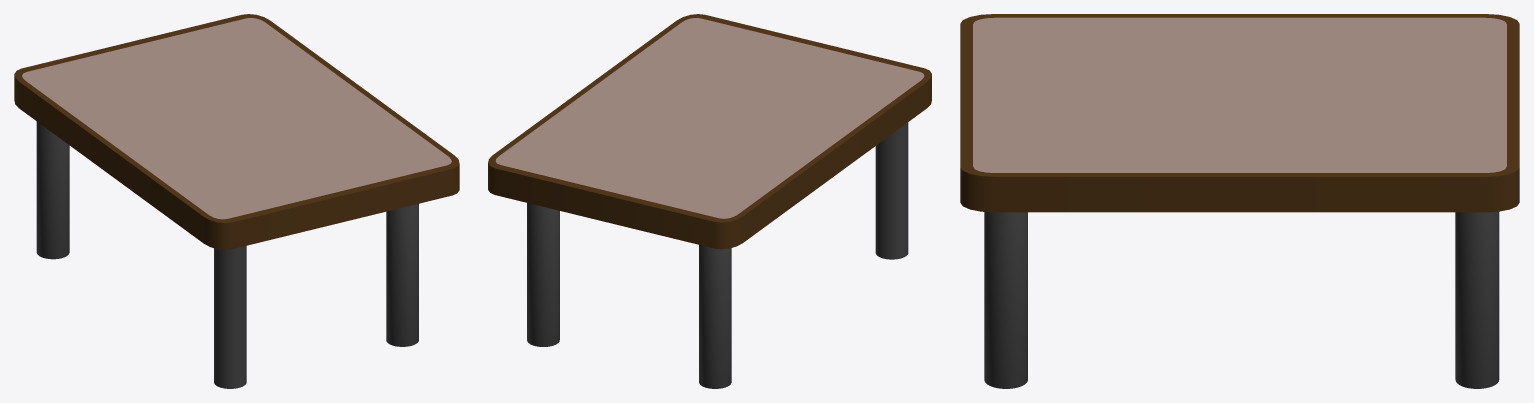
The model's file is Desk.fbx.
3 renders of one model, left to right at view 1: azimuth 30°, elevation 25°; view 2: azimuth 150°, elevation 25°; view 3: azimuth 270°, elevation 25°, orthographic. The views are drawn at different scales.
Visible parts, largest first — view 1: Cube, Cylinder.003, Cylinder.001, Cylinder.004; view 2: Cube, Cylinder.004, Cylinder.002, Cylinder.003; view 3: Cube, Cylinder.002, Cylinder.001.
Part boxes in pixels (box(x1,y1,x2,y2)): Cube: box(14, 14, 459, 249); Cylinder.003: box(214, 246, 246, 388); Cylinder.001: box(386, 203, 418, 346); Cylinder.004: box(36, 121, 69, 259); Cube: box(488, 14, 931, 249); Cylinder.004: box(699, 245, 731, 388); Cylinder.002: box(527, 203, 559, 346); Cylinder.003: box(875, 122, 908, 259); Cube: box(960, 14, 1519, 212); Cylinder.002: box(1455, 211, 1499, 388); Cylinder.001: box(984, 212, 1027, 388).
Size of the model in its own units: 558 by 374 by 810.
